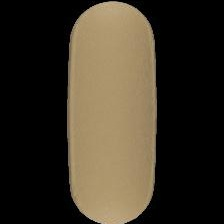0310-0282: (0, 0, 224, 224)
